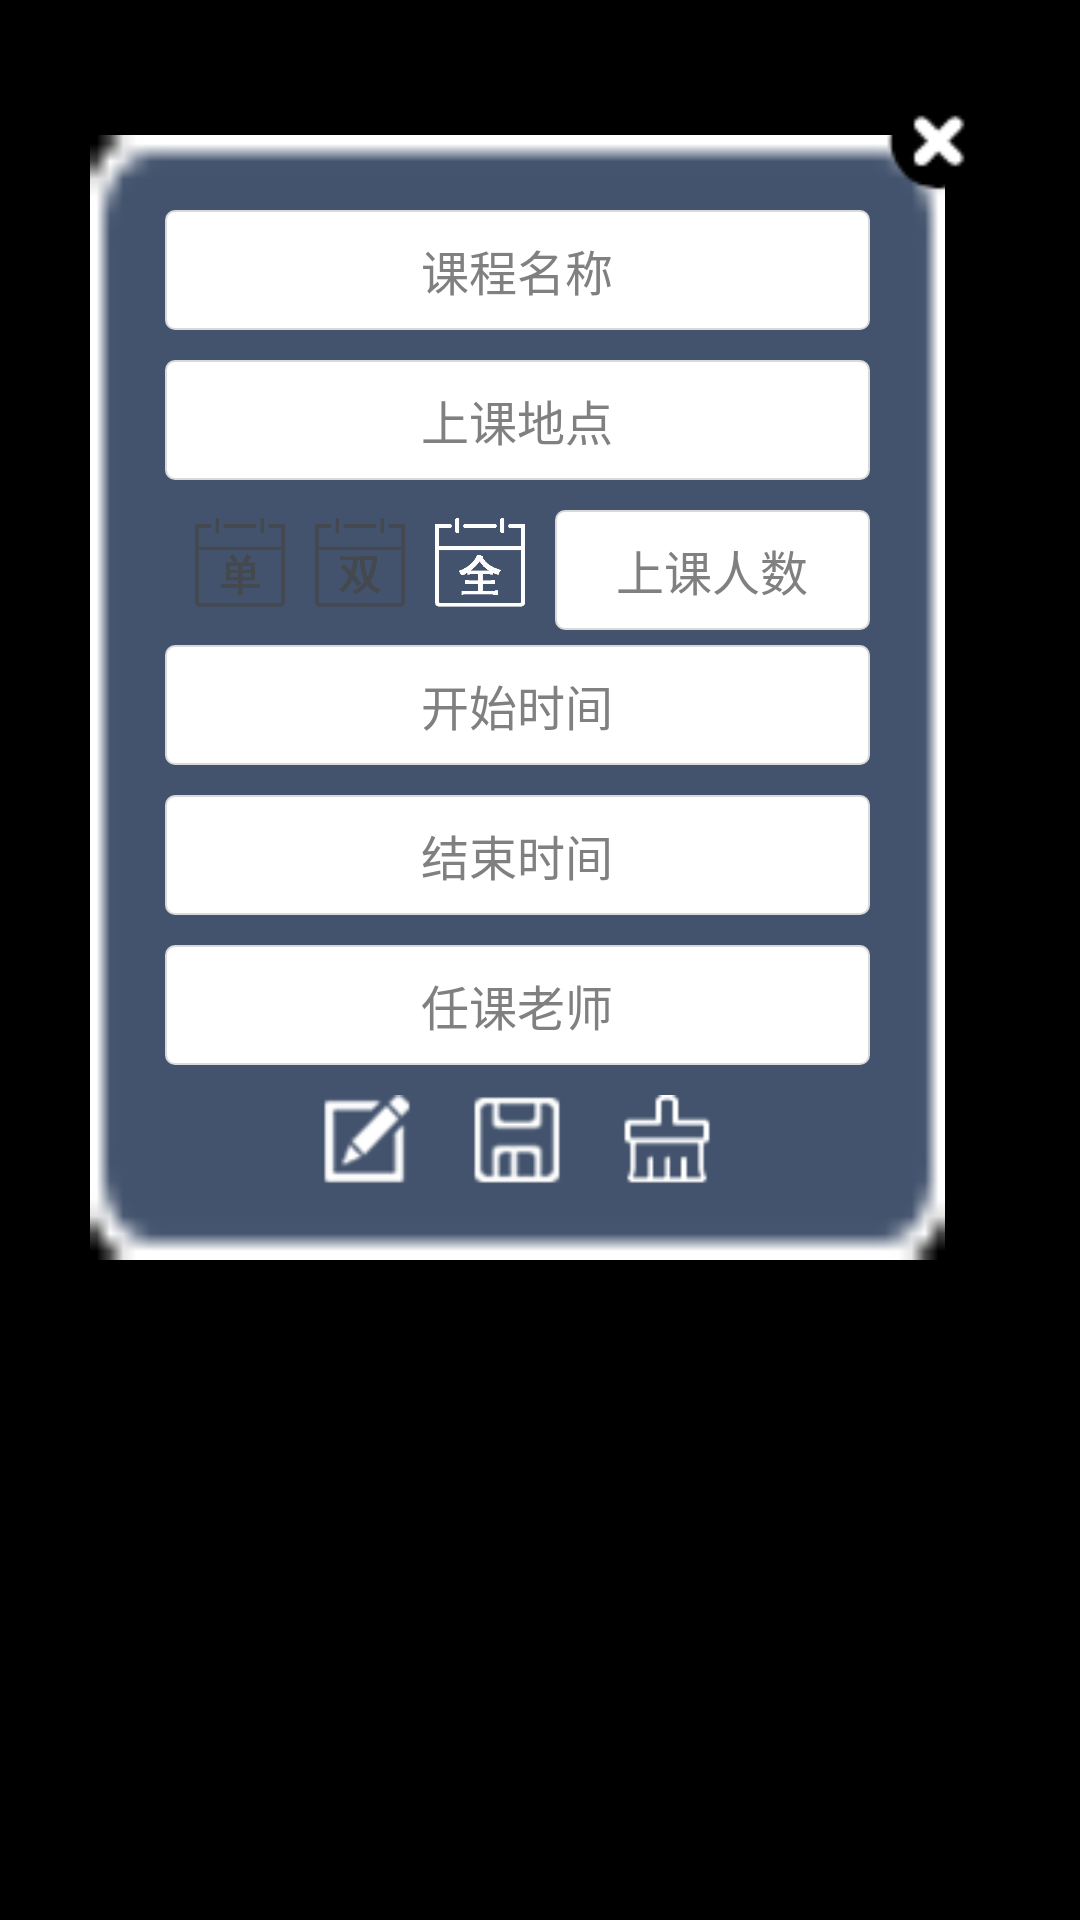

Where icons sit on this 1080px x 1920px app screen, as (x1, y1, x2, y2):
clear: (624, 1095, 710, 1183)
close: (913, 115, 965, 167)
save: (474, 1097, 560, 1183)
